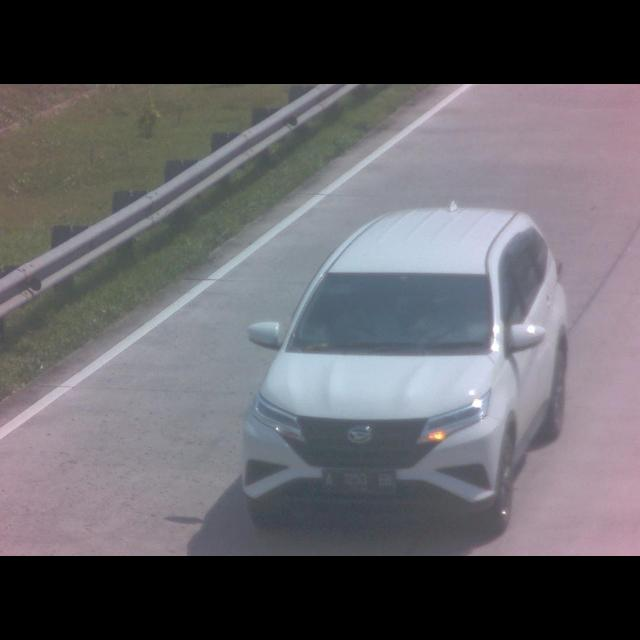plate: (320, 467, 398, 497)
